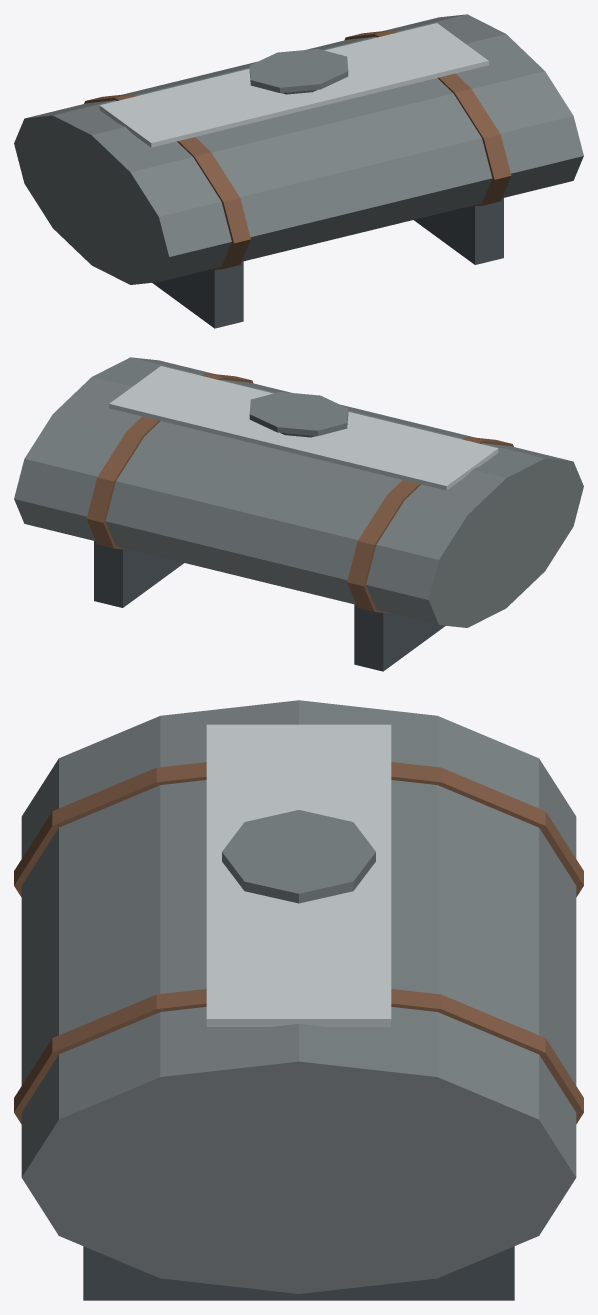
The model's file is fuel_tank.glb.
The picture shows the model from 3 angles, top to bottom: view 1: azimuth 30°, elevation 25°; view 2: azimuth 150°, elevation 25°; view 3: azimuth 270°, elevation 25°; orthographic projection. The views are drawn at different scales.
Visible parts, largest first — view 1: fuel_tank; view 2: fuel_tank; view 3: fuel_tank.
Boxes of the visible parts, x1,y1,x2,y2 form: fuel_tank: [14, 14, 583, 328]; fuel_tank: [14, 357, 583, 671]; fuel_tank: [14, 700, 583, 1300].
Size of the model in its own units: 3 by 1.25 by 2.
